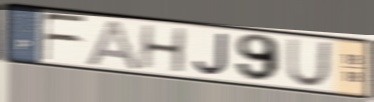9: (235, 33, 285, 85)
A: (82, 17, 143, 72)
F: (41, 12, 89, 63)
H: (137, 23, 187, 75)
J: (192, 31, 230, 77)
U: (285, 37, 334, 89)
